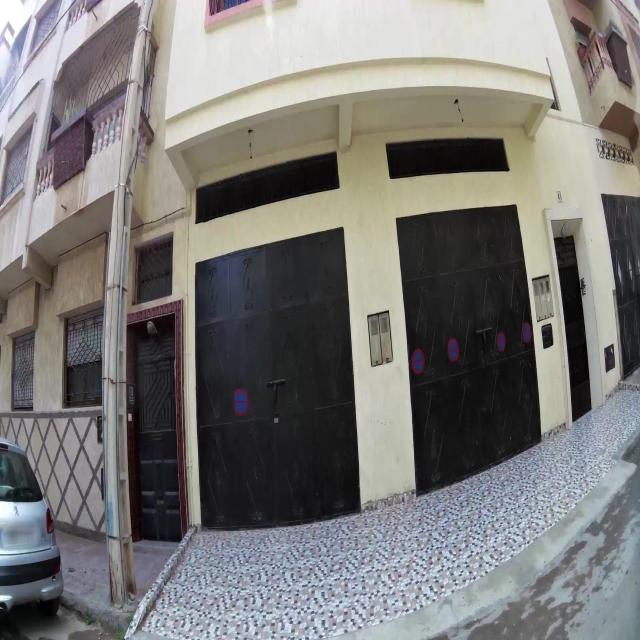forb_stopping: (521, 321, 532, 344)
forb_waiting: (412, 350, 424, 372), (496, 332, 505, 352)
